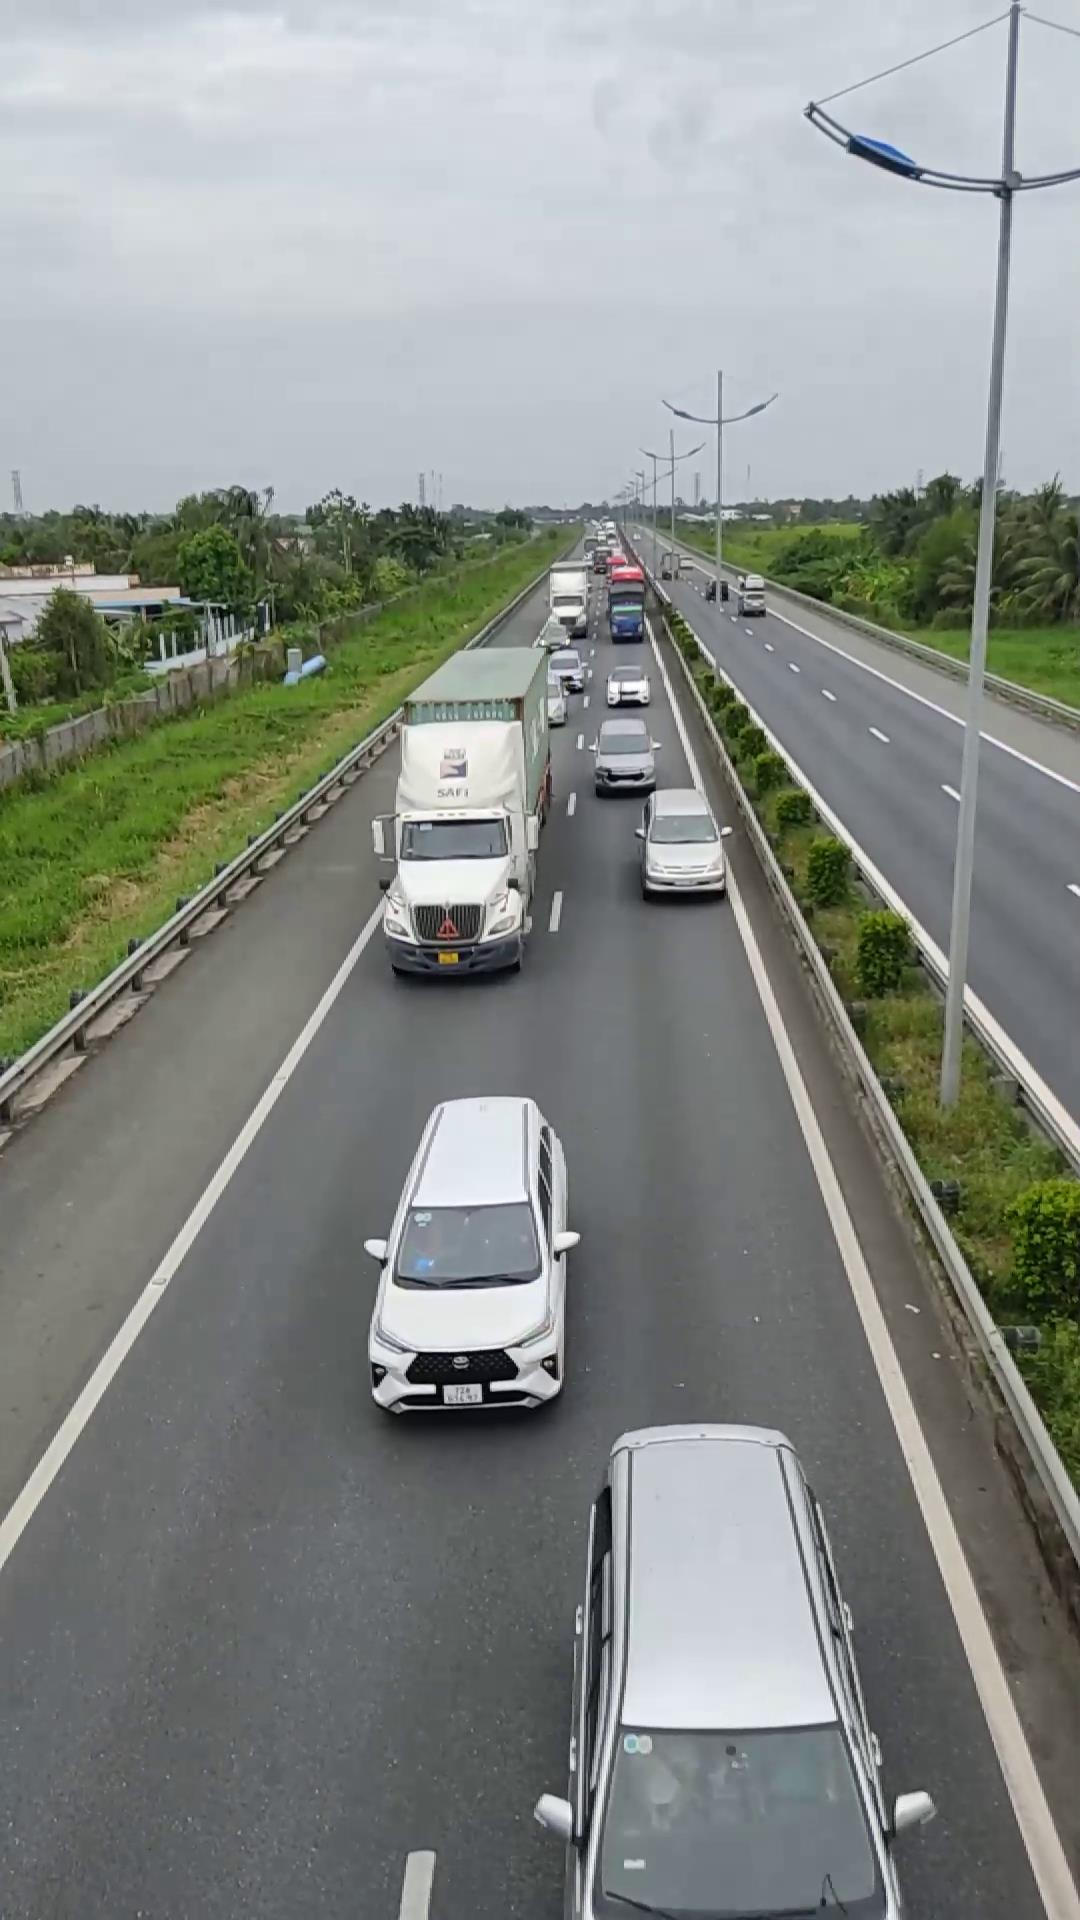car: (549, 1418, 920, 1918), (360, 1092, 579, 1419), (635, 788, 730, 900)
container: (378, 642, 556, 978)
